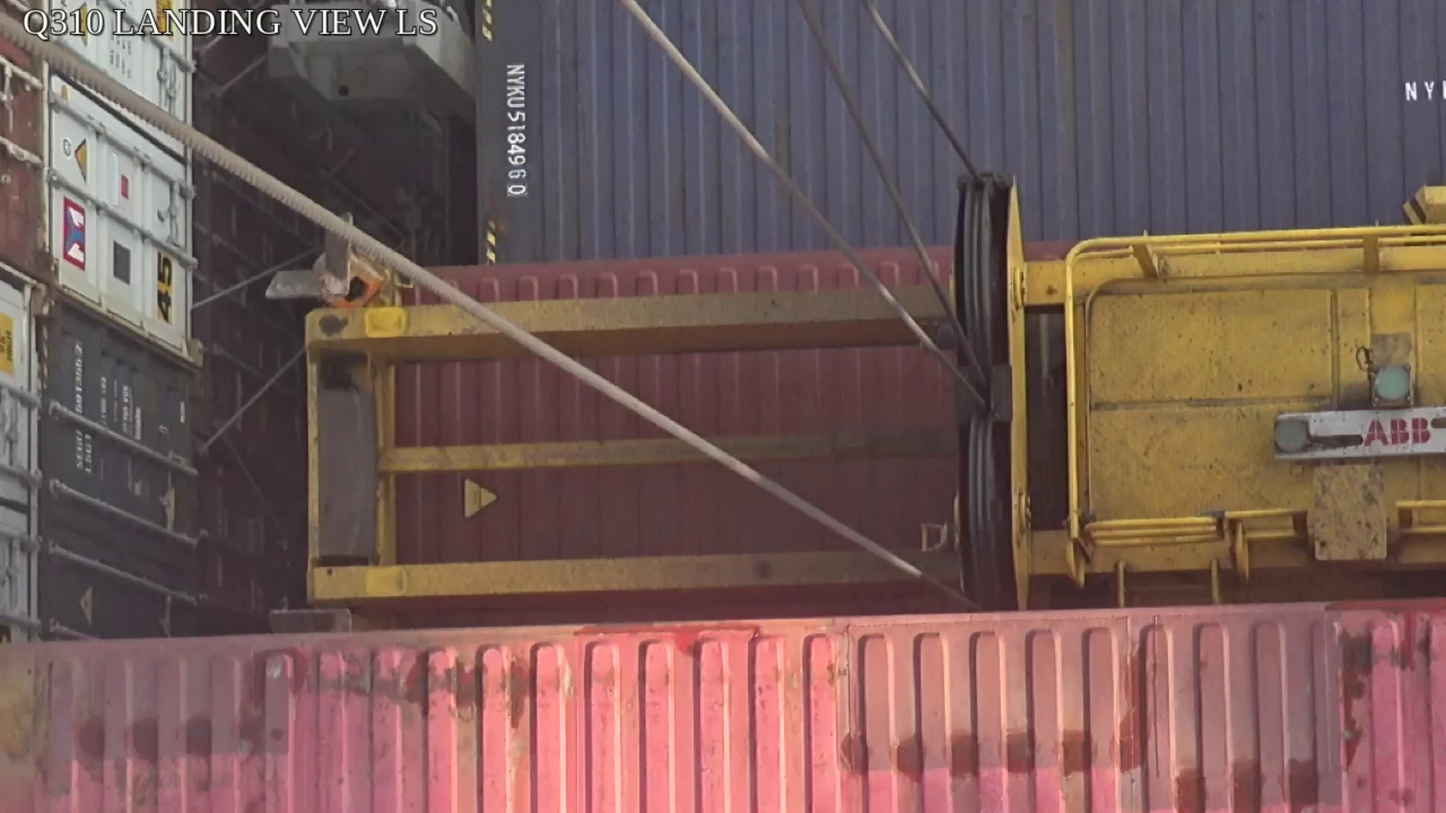aa: (951, 173, 1035, 611)
